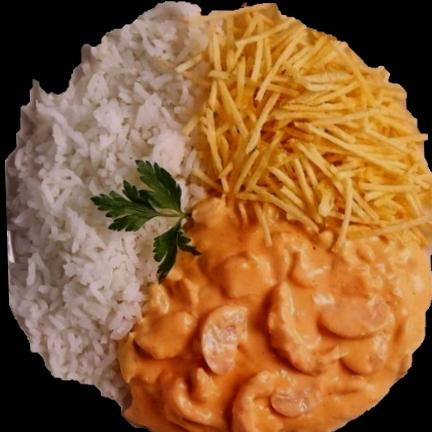chicken: (120, 198, 432, 432)
potato: (202, 13, 432, 246)
rice: (5, 9, 220, 412)
